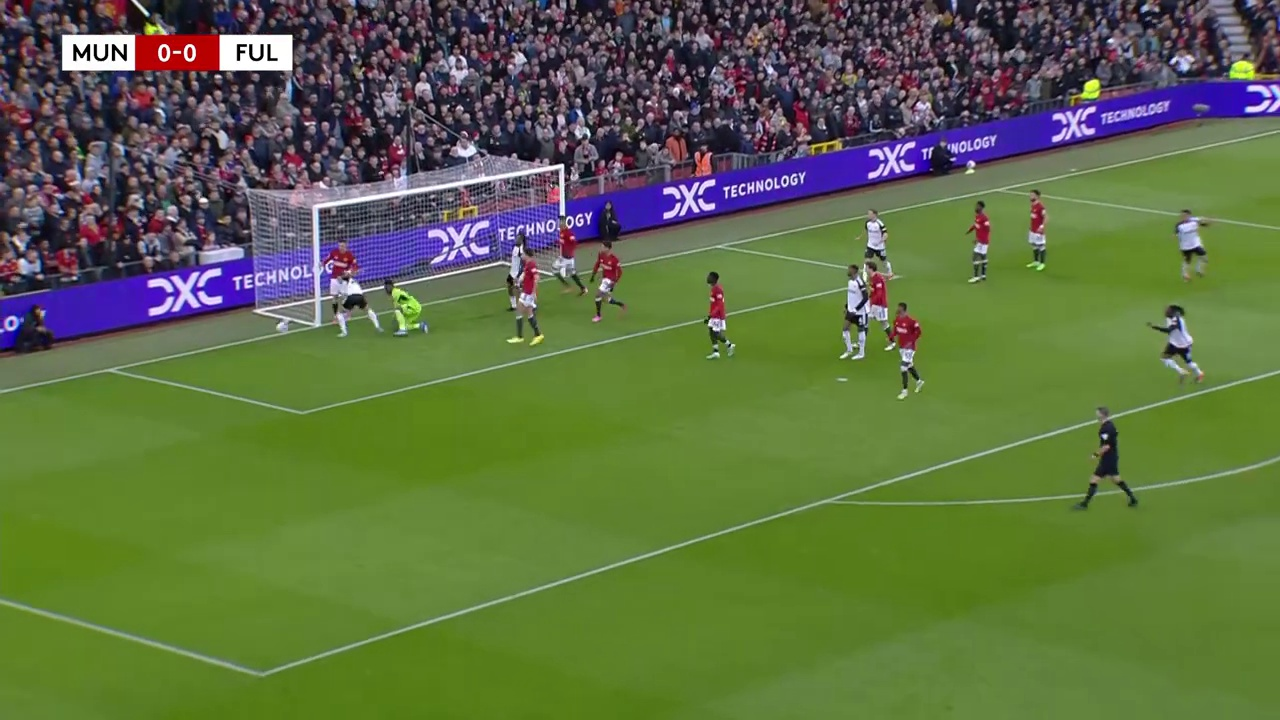ball: (82, 245, 100, 263)
